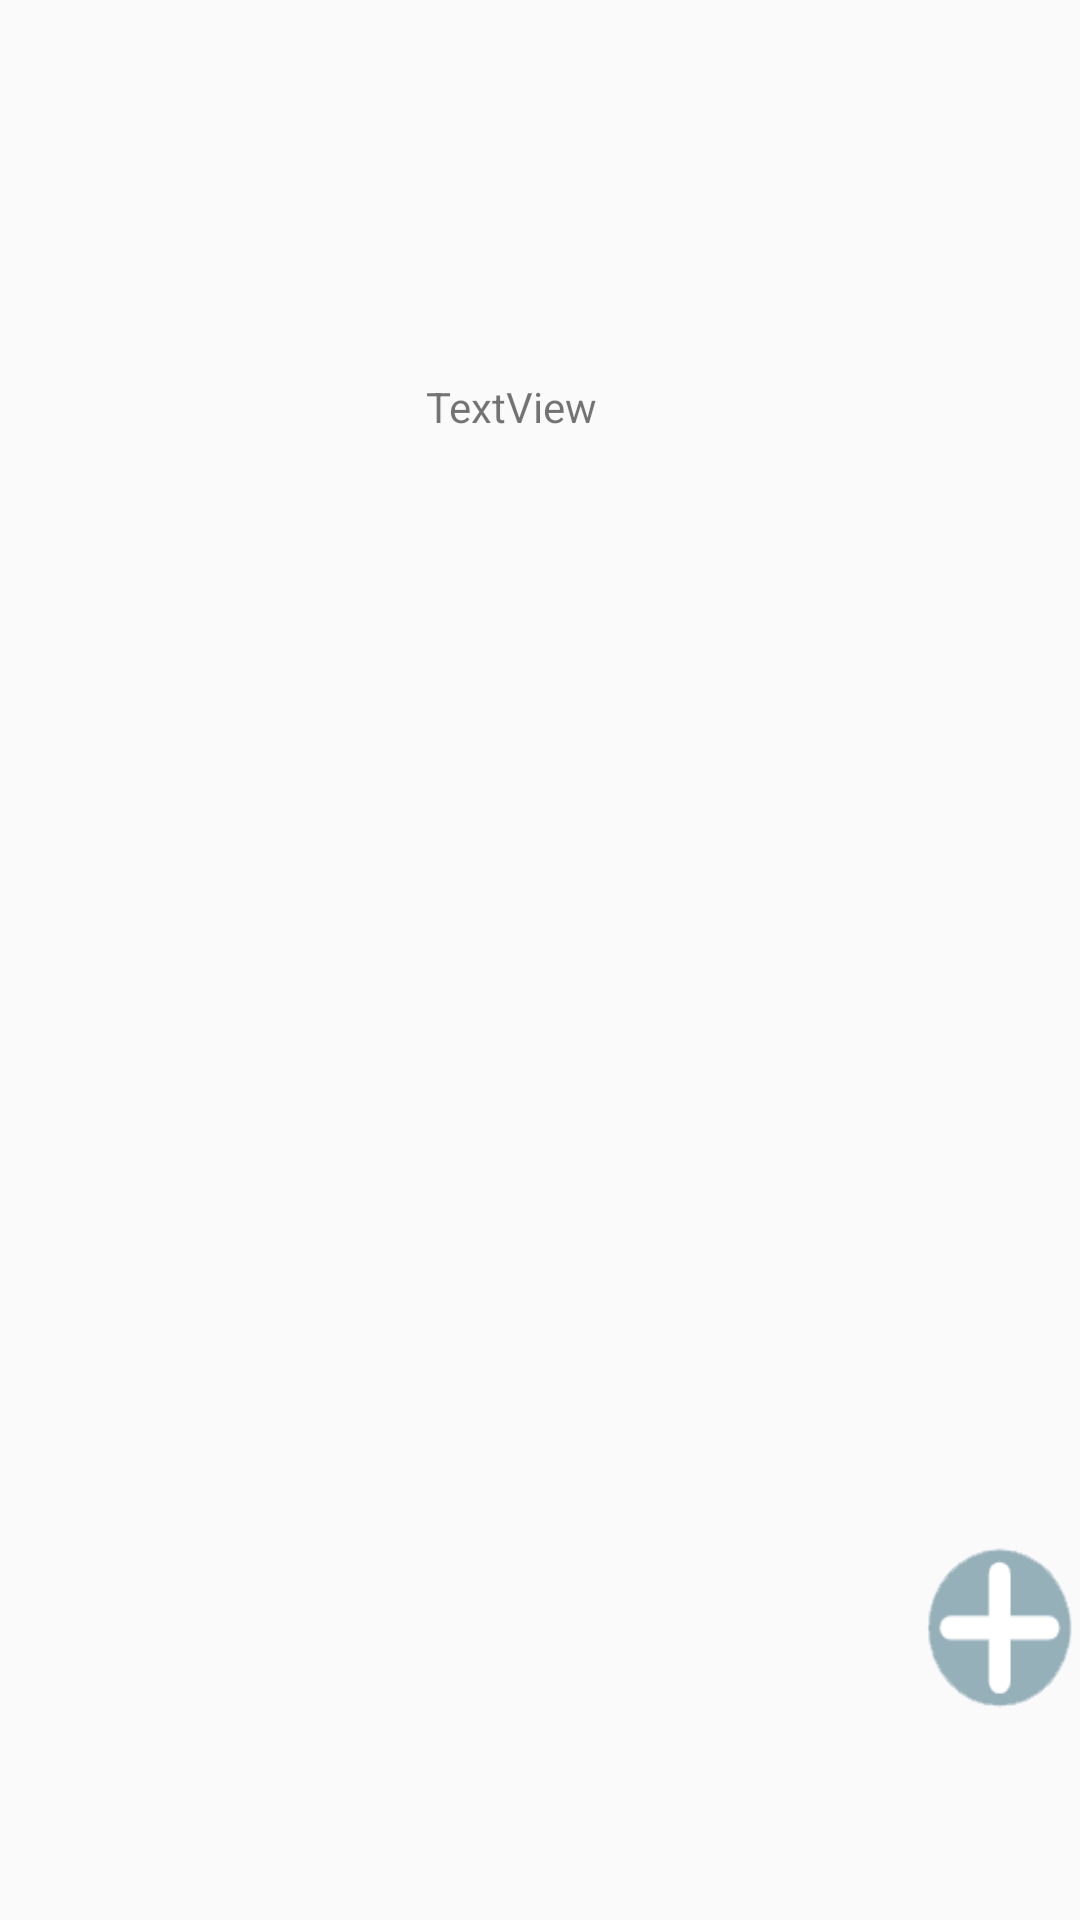

Screen size 1080x1920. Icon name, then its center in pixels as point (x, y):
add: point (999, 1627)
